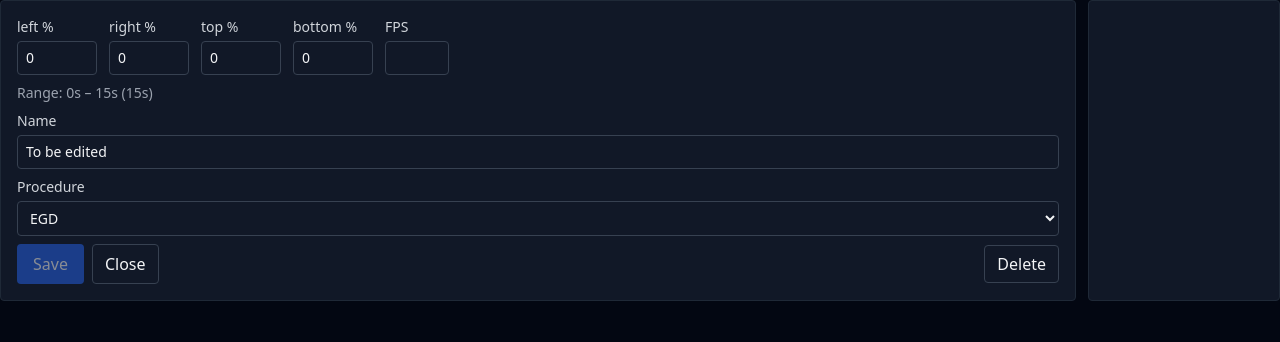
Test: SequenceForm edit mode (sequence prop present) › shows the exact annotation count that will be deleted, only once confirming
Check: the text "3 annotation" is not shown
Type "2" into the number field labelled "FPS". click: [417, 58]
box: [385, 41, 449, 75]
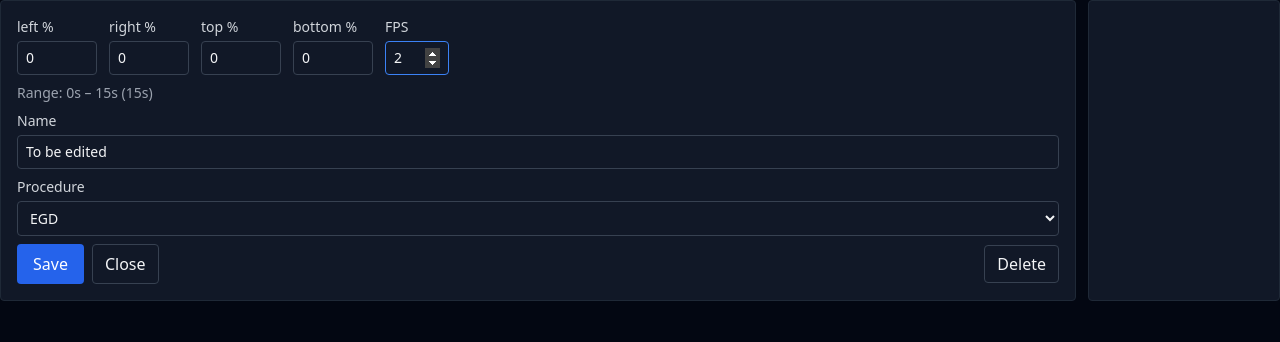
Click the button "Save". click: [50, 264]
box: [17, 244, 84, 284]
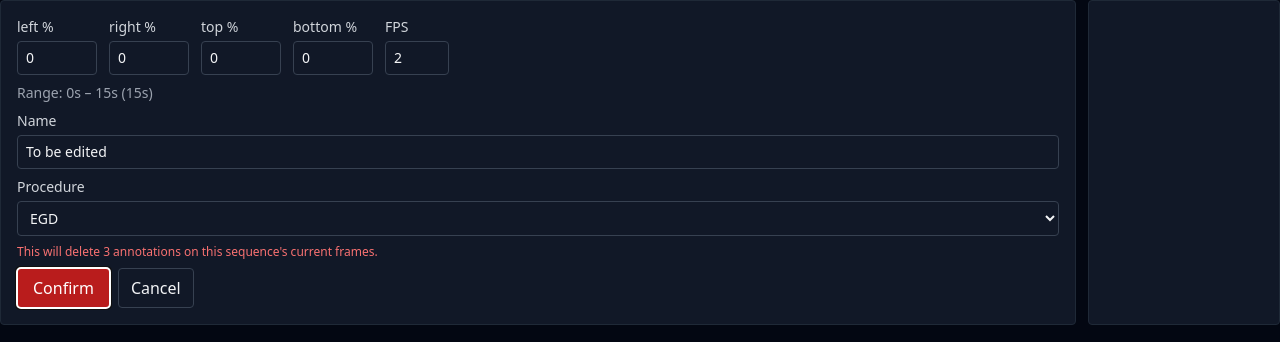
Check: the text "3 annotation" is shown, box [17, 243, 378, 260]
